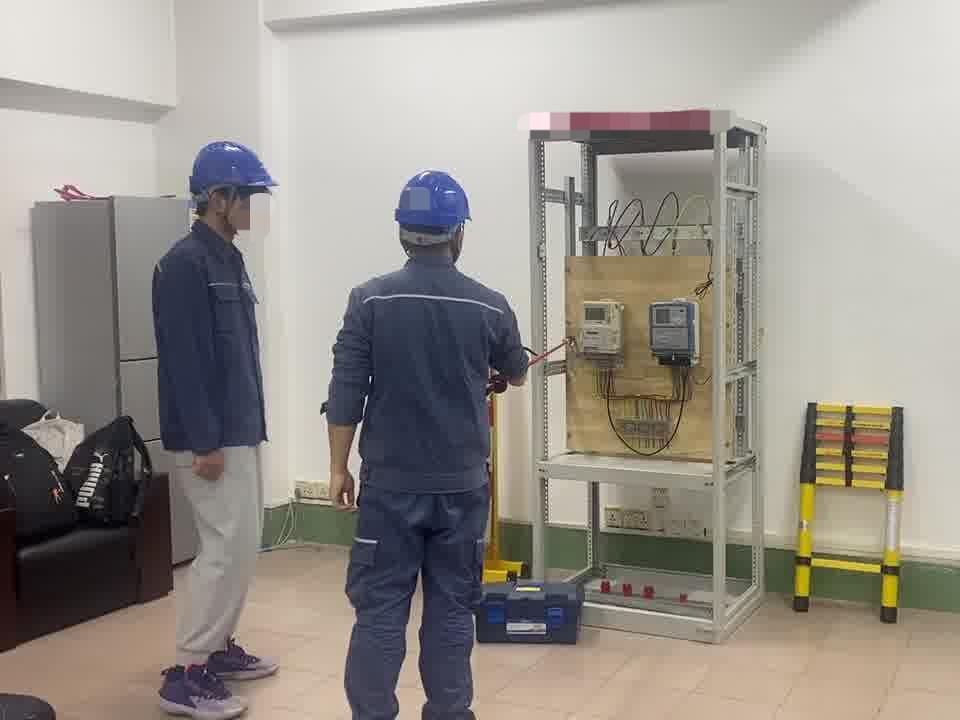halt: (189, 141, 280, 242), (396, 171, 475, 261)
inear: (206, 186, 242, 228)
